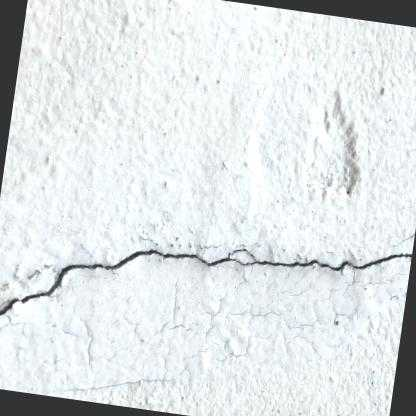crack: (0, 247, 412, 316)
